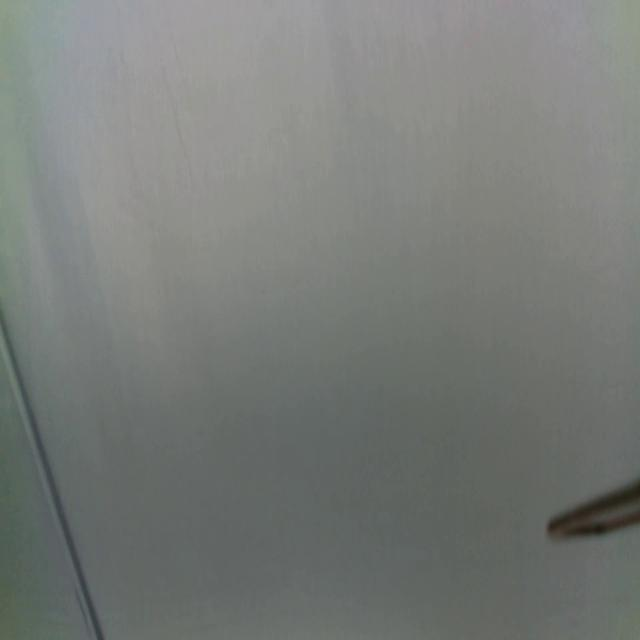crease: (1, 310, 104, 639)
